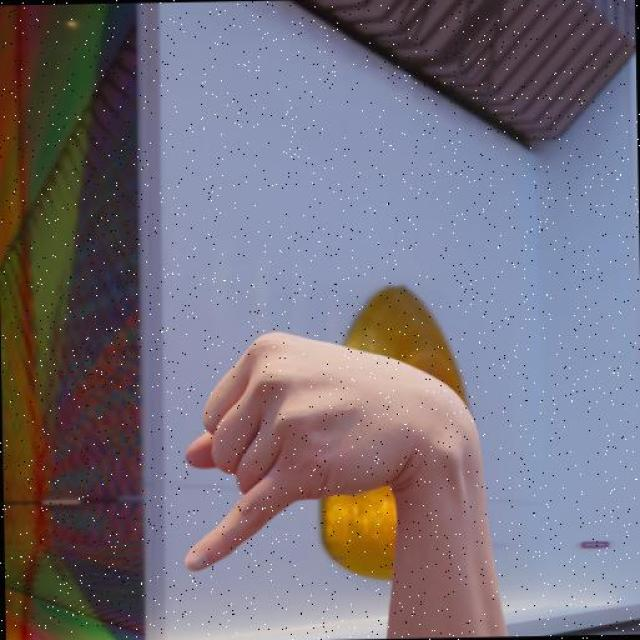J: (175, 323, 491, 574)
